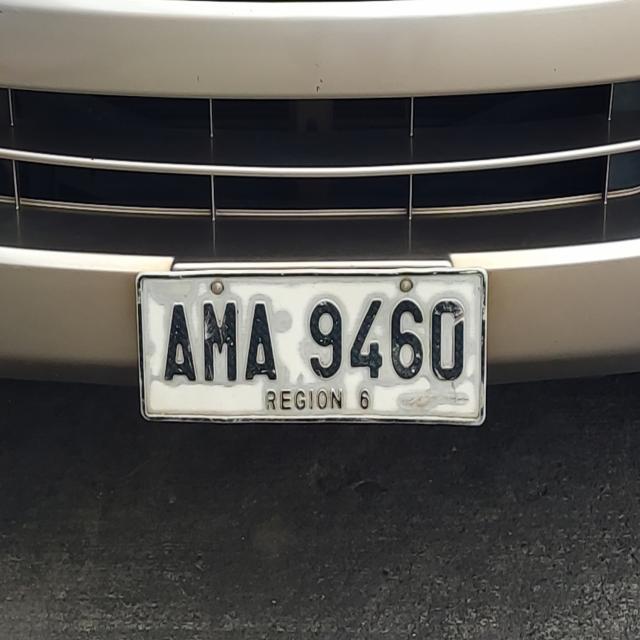LicensePlate: (126, 263, 499, 437)
